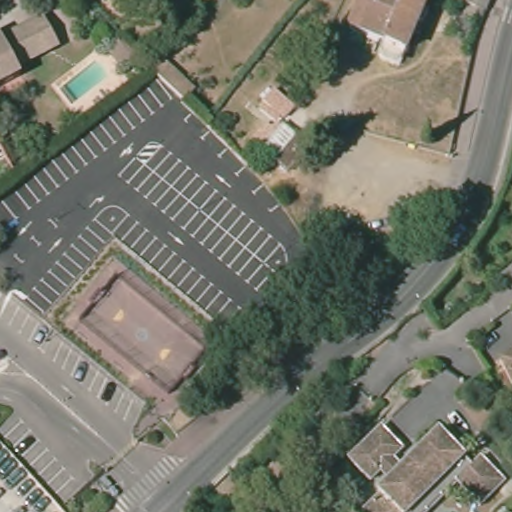pool: (52, 53, 113, 104)
